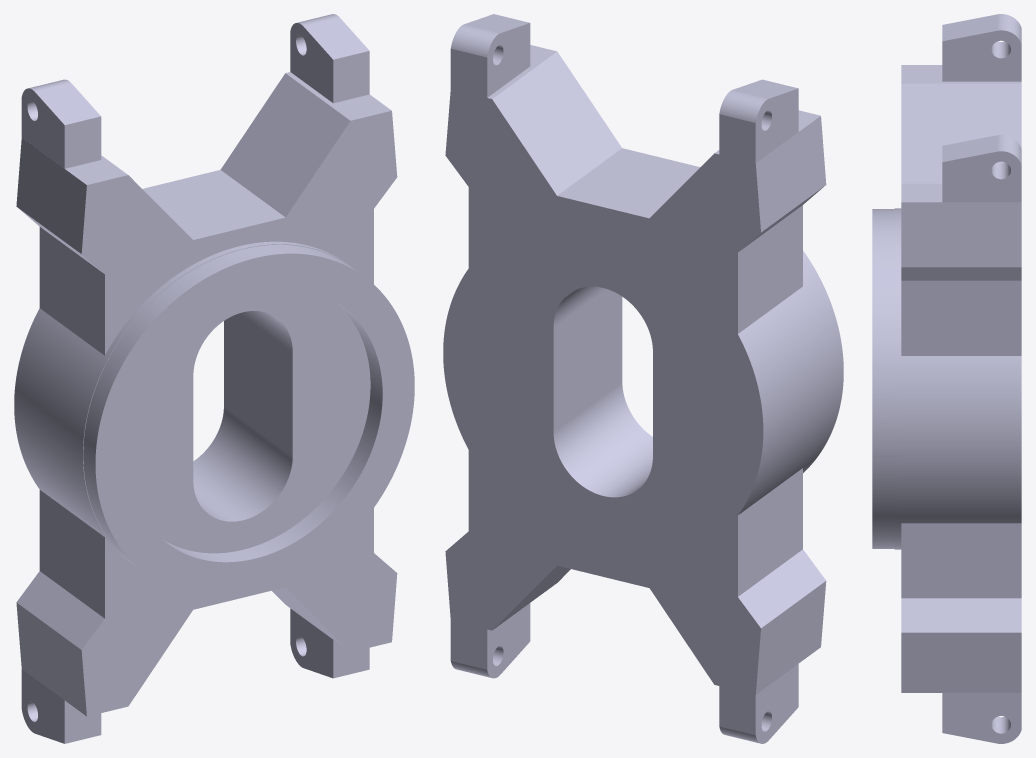
Rendered from CARBODY.obj.
3 renders of one model, left to right at view 1: azimuth 30°, elevation 25°; view 2: azimuth 150°, elevation 25°; view 3: azimuth 270°, elevation 25°, orthographic. The views are drawn at different scales.
Visible parts, largest first — view 1: SCX2000-3_CARBODY_1_000_1-HSC_SCX2000-3_CARBODY_007 (Meshed), SCX2000-3_TTB_000_1-HSC_SCX2000-3_TTB (Meshed); view 2: SCX2000-3_CARBODY_1_000_1-HSC_SCX2000-3_CARBODY_007 (Meshed), SCX2000-3_TTB_000_1-HSC_SCX2000-3_TTB (Meshed); view 3: SCX2000-3_CARBODY_1_000_1-HSC_SCX2000-3_CARBODY_007 (Meshed), SCX2000-3_TTB_000_1-HSC_SCX2000-3_TTB (Meshed).
Part boxes in pixels (x1,y1,x2,y2): SCX2000-3_CARBODY_1_000_1-HSC_SCX2000-3_CARBODY_007 (Meshed): (14,14,397,743); SCX2000-3_TTB_000_1-HSC_SCX2000-3_TTB (Meshed): (83,244,414,596); SCX2000-3_CARBODY_1_000_1-HSC_SCX2000-3_CARBODY_007 (Meshed): (443,14,831,743); SCX2000-3_TTB_000_1-HSC_SCX2000-3_TTB (Meshed): (803,250,843,472); SCX2000-3_CARBODY_1_000_1-HSC_SCX2000-3_CARBODY_007 (Meshed): (894,14,1021,743); SCX2000-3_TTB_000_1-HSC_SCX2000-3_TTB (Meshed): (872,209,894,548).
Bounding box in the file's own units: 2900 × 5560 × 1269.
